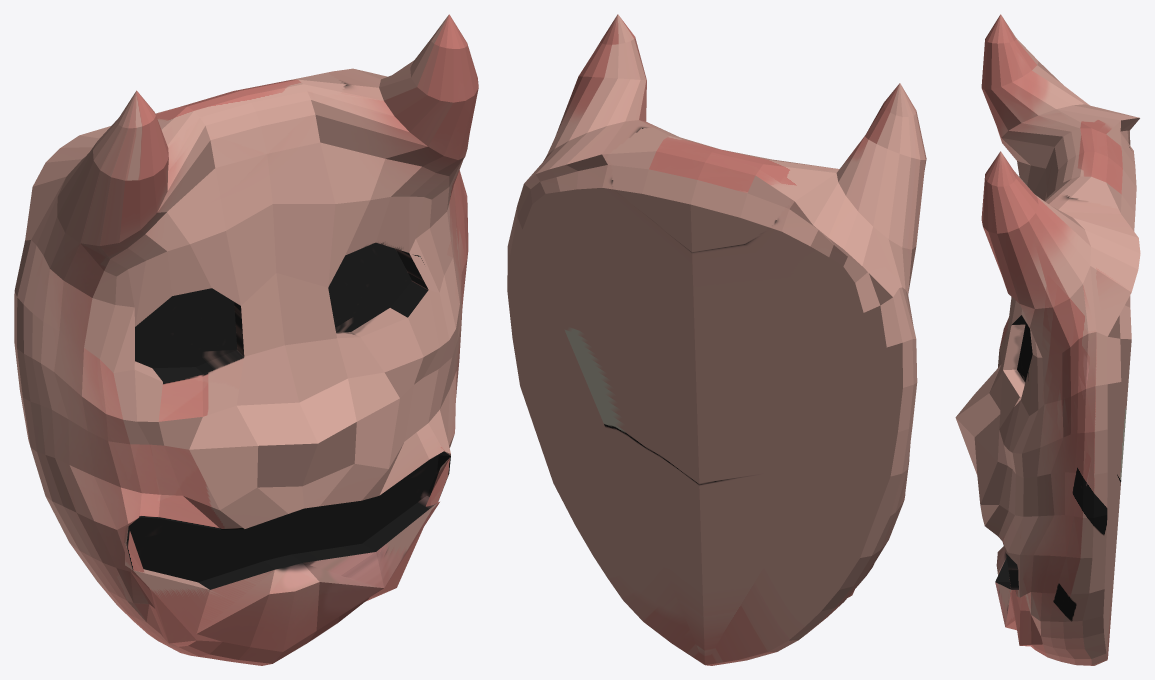
File: mask2.fbx
3 views of the same model, side by side, from view 1: azimuth 30°, elevation 25°; view 2: azimuth 150°, elevation 25°; view 3: azimuth 270°, elevation 25° (orthographic). The views are drawn at different scales.
Parts seen in each view (by area): view 1: Cube; view 2: Cube; view 3: Cube.
Part boxes in pixels (x1,y1,x2,y2): Cube: (14, 14, 478, 665); Cube: (507, 14, 926, 665); Cube: (955, 14, 1140, 665).
Bounding box in the file's own units: 347 × 478 × 138.
